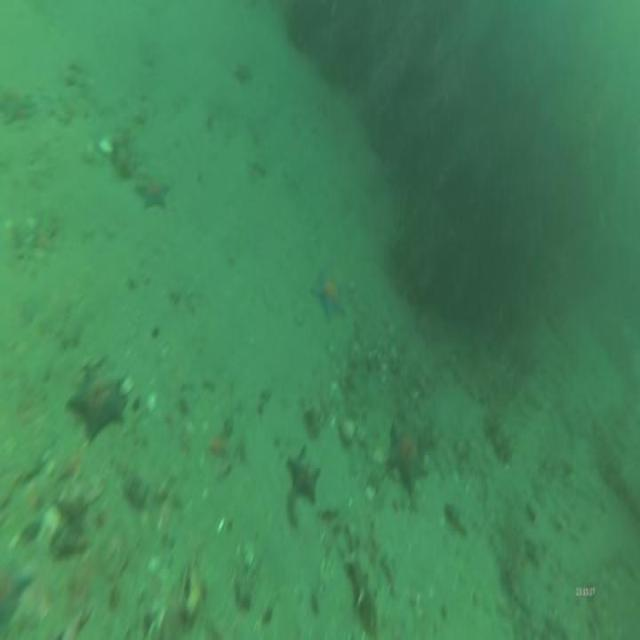holothurian: (344, 545, 383, 640)
starfish: (68, 360, 130, 442), (384, 420, 429, 495), (310, 266, 348, 327), (286, 443, 324, 504), (135, 172, 173, 218)
